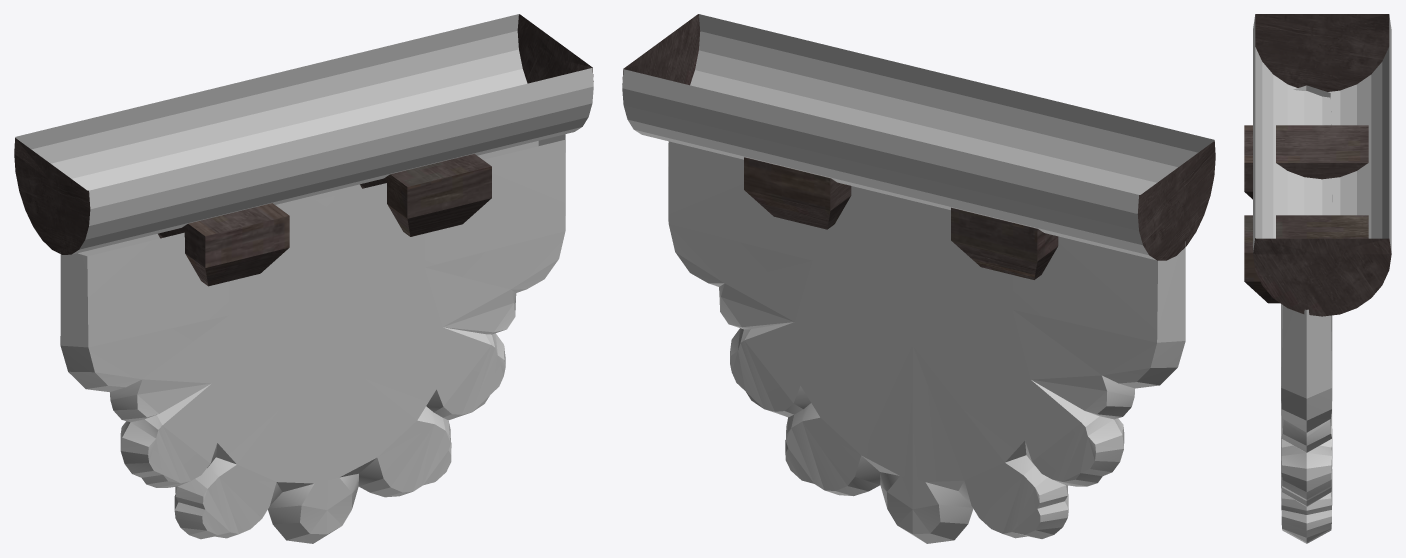
The model's file is SM_Roof_Foundation_19.FBX.
The picture shows the model from 3 angles, left to right: view 1: azimuth 30°, elevation 25°; view 2: azimuth 150°, elevation 25°; view 3: azimuth 270°, elevation 25°; orthographic projection. The views are drawn at different scales.
Parts seen in each view (by area): view 1: SM_Roof_Foundation_19; view 2: SM_Roof_Foundation_19; view 3: SM_Roof_Foundation_19.
Part boxes in pixels (left/top/right/bottom): SM_Roof_Foundation_19: left=14, top=14, right=593, bottom=543; SM_Roof_Foundation_19: left=622, top=14, right=1215, bottom=543; SM_Roof_Foundation_19: left=1244, top=14, right=1391, bottom=543.
Bounding box in the file's own units: 155 × 127 × 42.78.
